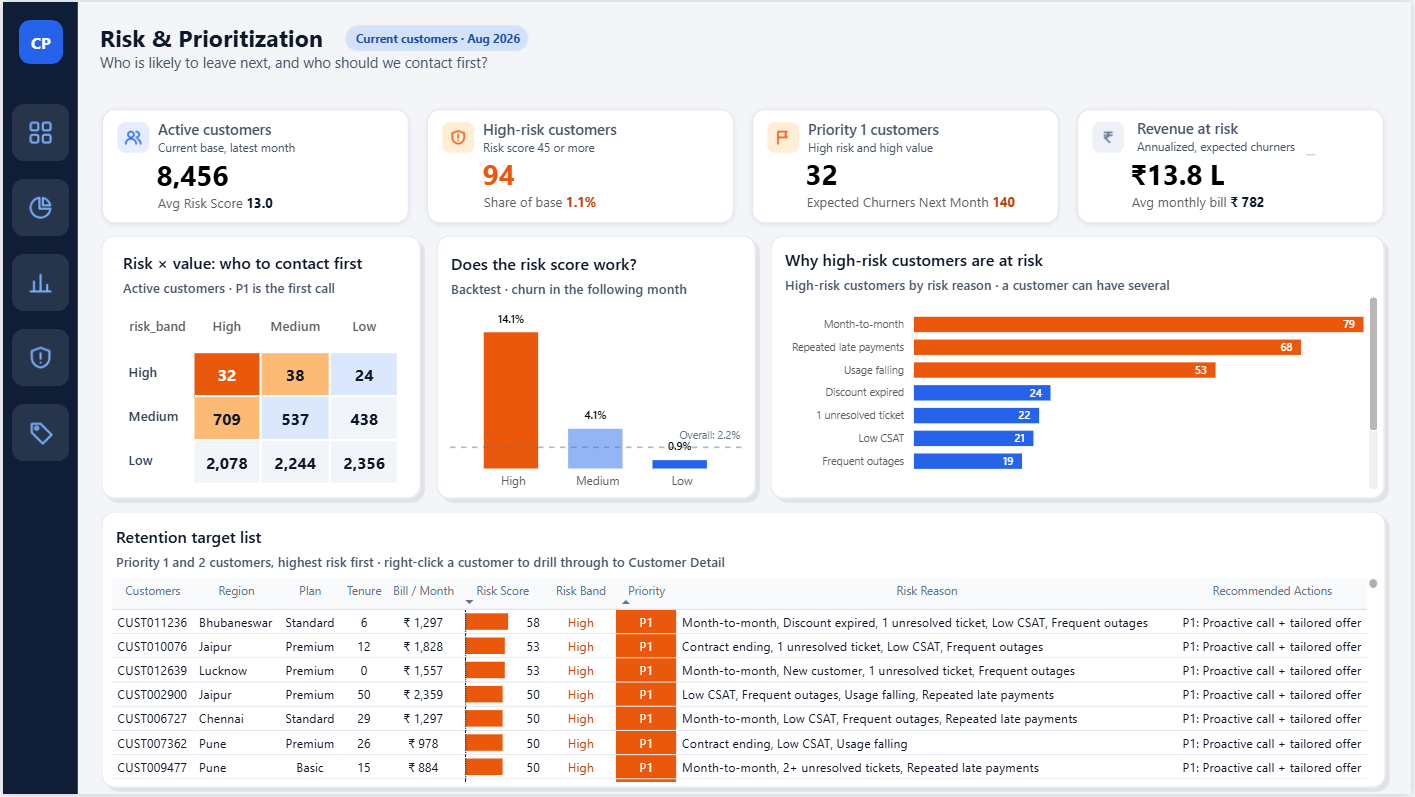

The page's visual inventory and layout, read from the dashboard file:
{"tool":"powerbi","page":{"name":"Risk","canvas":[1280,720],"ordinal":3},"visuals":[{"type":"group","id":"g1","title":"Group 3","box":[0,0,68,720],"z":0},{"type":"shape","box":[0,0,68,720],"z":0,"group":"g1"},{"type":"group","id":"g2","title":"Group 10","box":[388,206,302,251],"z":0,"group":"g15"},{"type":"group","id":"g3","title":"Group 8","box":[388,206,302,251],"z":0,"group":"g17"},{"type":"group","id":"g4","title":"Group 8","box":[692,206,570,251],"z":0,"group":"g19"},{"type":"group","id":"g5","title":"Group 8","box":[83.6,206.4,302,251],"z":0,"group":"g20"},{"type":"group","id":"g6","title":"Group 8","box":[83.6,457.3,1179,262.8],"z":0,"group":"g22"},{"type":"shape","box":[14,16,40,40],"z":1000,"group":"g9"},{"type":"group","id":"g7","title":"Group 11","box":[88,17.9,380.2,50.3],"z":1000},{"type":"textbox","title":"Risk & Prioritization","box":[88,17.9,328.2,30],"z":1000,"group":"g7"},{"type":"clusteredColumnChart","fields":{"Category":["Risk_Band_Performance.risk_band"],"Y":["_Measures.Band Next-Month Churn Rate"]},"box":[405.8,272.7,268.5,175.4],"z":1000,"group":"g15"},{"type":"textbox","title":"Who is likely to leave next, and who should we contact first?","box":[88.2,46.4,380,21.8],"z":2000,"group":"g7"},{"type":"actionButton","box":[8,92,52,52],"z":2000,"group":"g8"},{"type":"actionButton","box":[8,160.2,52,52],"z":3000,"group":"g8"},{"type":"shape","box":[388,206,302,251],"z":3000,"group":"g3"},{"type":"shape","box":[692,206,570,251],"z":3000,"group":"g4"},{"type":"shape","box":[83.6,206.4,302,251],"z":3000,"group":"g5"},{"type":"textbox","title":"Why high-risk customers are at risk","box":[710.8,223.6,457.6,42.9],"z":3000,"group":"g19"},{"type":"textbox","title":"Risk × value: who to contact first","box":[108.6,226.4,222.1,42.1],"z":3000,"group":"g20"},{"type":"textbox","title":"Does the risk score work?","box":[406.8,227.3,242.3,43.1],"z":3000,"group":"g17"},{"type":"shape","box":[83.6,457.3,1179,262.8],"z":3000,"group":"g6"},{"type":"textbox","title":"Retention target list","box":[102.9,475.4,946.7,45.4],"z":3000,"group":"g22"},{"type":"actionButton","box":[8,228.5,52,52],"z":4000,"group":"g8"},{"type":"actionButton","box":[8,296.8,52,52],"z":5000,"group":"g8"},{"type":"textbox","title":"Current customers · Aug 2026","box":[310.7,20.7,167.1,24.3],"z":6000},{"type":"actionButton","box":[8,365,52,52],"z":6000,"group":"g8"},{"type":"group","id":"g8","title":"Group 1","box":[8,92,52,325],"z":6001,"group":"g9"},{"type":"group","id":"g9","title":"Group 2","box":[8,16,52,401],"z":6002,"group":"g1"},{"type":"group","id":"g10","title":"Group 4","box":[90.2,97.1,279,106.6],"z":7000},{"type":"group","id":"g11","title":"Group 4","box":[385.6,97.3,279,108.8],"z":8000},{"type":"group","id":"g12","title":"Group 4","box":[681,97.3,279,108.8],"z":9000},{"type":"group","id":"g13","title":"Group 4","box":[976.4,97.3,279,108.8],"z":10000},{"type":"group","id":"g14","title":"Group 10","box":[83.6,206.4,302,251],"z":11000},{"type":"group","id":"g15","title":"Group 5","box":[388,206,302,251],"z":12000},{"type":"group","id":"g16","title":"Group 10","box":[692,206,570,251],"z":12000,"group":"g18"},{"type":"group","id":"g17","title":"Group 9","box":[388,206,302,251],"z":13000,"group":"g2"},{"type":"group","id":"g18","title":"Group 6","box":[692,206,570,251],"z":13000},{"type":"group","id":"g19","title":"Group 9","box":[692,206,570,251],"z":13000,"group":"g16"},{"type":"group","id":"g20","title":"Group 9","box":[83.6,206.4,302,251],"z":13000,"group":"g14"},{"type":"group","id":"g21","title":"Group 10","box":[83.6,457.3,1179,262.8],"z":13000,"group":"g23"},{"type":"group","id":"g22","title":"Group 9","box":[83.6,457.3,1179,262.8],"z":13000,"group":"g21"},{"type":"clusteredBarChart","fields":{"Category":["customer_risk_reasons.risk_reason"],"Y":["_Measures.Customers with Reason"]},"box":[709.2,260,540.8,183.1],"z":13001,"group":"g18"},{"type":"group","id":"g23","title":"Group 7","box":[83.6,457.3,1179.1,262.7],"z":14000},{"type":"pivotTable","fields":{"Rows":["Customer_Priority.risk_band"],"Columns":["Customer_Priority.value_tier"],"Values":["_Measures.Active Customers (Current)"]},"box":[109.1,277.3,251.8,165.5],"z":15000},{"type":"tableEx","fields":{"Values":["Customer_Priority.customer_id","Customer_Priority.region_name","Customer_Priority.plan_category","Customer_Priority.tenure_months","Customer_Priority.current_monthly_bill","Customer_Priority.risk_score","Customer_Priority.risk_band","Customer_Priority.priority_rank","Customer_Priority.risk_reasons","Customer_Priority.recommended_action"]},"box":[98.4,523.3,1151.8,184.7],"z":15000,"group":"g23"},{"type":"shape","box":[90.2,97.1,279,104.4],"z":16000,"group":"g10"},{"type":"shape","box":[385.6,97.3,279,104.4],"z":16000,"group":"g11"},{"type":"shape","box":[681,97.3,279,104.4],"z":16000,"group":"g12"},{"type":"shape","box":[976.4,97.3,279,104.4],"z":16000,"group":"g13"},{"type":"cardVisual","fields":{"Data":["_Measures.High-Risk Customers"]},"box":[420.1,132.5,168.2,73.6],"z":17000,"group":"g11"},{"type":"cardVisual","fields":{"Data":["_Measures.Priority 1 Customers"]},"box":[713.6,132.5,240.9,73.6],"z":17000,"group":"g12"},{"type":"cardVisual","fields":{"Data":["_Measures.Revenue at Risk Text"]},"box":[1009,132.5,240.9,73.6],"z":17000,"group":"g13"},{"type":"cardVisual","fields":{"Data":["_Measures.Active Customers (Current)"]},"box":[124,135.4,160,68.3],"z":17000,"group":"g10"},{"type":"image","box":[100.7,109.2,35.2,28.3],"z":18000,"group":"g10"},{"type":"image","box":[396.1,109.4,35.2,28.3],"z":18000,"group":"g11"},{"type":"image","box":[691.5,109.4,35.2,28.3],"z":18000,"group":"g12"},{"type":"image","box":[986.9,109.4,35.2,28.3],"z":18000,"group":"g13"},{"type":"textbox","title":"Revenue at risk","box":[1030.6,106.1,161.8,32.7],"z":19000,"group":"g13"},{"type":"textbox","title":"Active customers","box":[140.7,106.8,137.6,32.1],"z":19000,"group":"g10"},{"type":"textbox","title":"High-risk customers","box":[436.1,107,137.6,32.1],"z":19000,"group":"g11"},{"type":"textbox","title":"Priority 1 customers","box":[731.5,107,137.6,32.1],"z":19000,"group":"g12"}]}

Visuals, with their boxes on the page's 1280x720 design canvas (x1, y1, x2, y2). These are canvas units, not pixel positions in the 1415x797 screenshot, which may show the page scaled, cropped or inside an application window:
"Group 3" group: x1=0 y1=0 x2=68 y2=720
shape: x1=0 y1=0 x2=68 y2=720
"Group 10" group: x1=388 y1=206 x2=690 y2=457
"Group 8" group: x1=388 y1=206 x2=690 y2=457
"Group 8" group: x1=692 y1=206 x2=1262 y2=457
"Group 8" group: x1=84 y1=206 x2=386 y2=457
"Group 8" group: x1=84 y1=457 x2=1263 y2=720
shape: x1=14 y1=16 x2=54 y2=56
"Group 11" group: x1=88 y1=18 x2=468 y2=68
"Risk & Prioritization" textbox: x1=88 y1=18 x2=416 y2=48
clusteredColumnChart - Risk_Band_Performance.risk_band x _Measures.Band Next-Month Churn Rate: x1=406 y1=273 x2=674 y2=448
"Who is likely to leave next, and who should we contact first?" textbox: x1=88 y1=46 x2=468 y2=68
actionButton: x1=8 y1=92 x2=60 y2=144
actionButton: x1=8 y1=160 x2=60 y2=212
shape: x1=388 y1=206 x2=690 y2=457
shape: x1=692 y1=206 x2=1262 y2=457
shape: x1=84 y1=206 x2=386 y2=457
"Why high-risk customers are at risk" textbox: x1=711 y1=224 x2=1168 y2=266
"Risk × value: who to contact first" textbox: x1=109 y1=226 x2=331 y2=268
"Does the risk score work?" textbox: x1=407 y1=227 x2=649 y2=270
shape: x1=84 y1=457 x2=1263 y2=720
"Retention target list" textbox: x1=103 y1=475 x2=1050 y2=521
actionButton: x1=8 y1=228 x2=60 y2=280
actionButton: x1=8 y1=297 x2=60 y2=349
"Current customers · Aug 2026" textbox: x1=311 y1=21 x2=478 y2=45
actionButton: x1=8 y1=365 x2=60 y2=417
"Group 1" group: x1=8 y1=92 x2=60 y2=417
"Group 2" group: x1=8 y1=16 x2=60 y2=417
"Group 4" group: x1=90 y1=97 x2=369 y2=204
"Group 4" group: x1=386 y1=97 x2=665 y2=206
"Group 4" group: x1=681 y1=97 x2=960 y2=206
"Group 4" group: x1=976 y1=97 x2=1255 y2=206
"Group 10" group: x1=84 y1=206 x2=386 y2=457
"Group 5" group: x1=388 y1=206 x2=690 y2=457
"Group 10" group: x1=692 y1=206 x2=1262 y2=457
"Group 9" group: x1=388 y1=206 x2=690 y2=457
"Group 6" group: x1=692 y1=206 x2=1262 y2=457
"Group 9" group: x1=692 y1=206 x2=1262 y2=457
"Group 9" group: x1=84 y1=206 x2=386 y2=457
"Group 10" group: x1=84 y1=457 x2=1263 y2=720
"Group 9" group: x1=84 y1=457 x2=1263 y2=720
clusteredBarChart - customer_risk_reasons.risk_reason x _Measures.Customers with Reason: x1=709 y1=260 x2=1250 y2=443
"Group 7" group: x1=84 y1=457 x2=1263 y2=720
pivotTable - Customer_Priority.risk_band x Customer_Priority.value_tier: x1=109 y1=277 x2=361 y2=443
tableEx - Customer_Priority.customer_id x Customer_Priority.region_name: x1=98 y1=523 x2=1250 y2=708
shape: x1=90 y1=97 x2=369 y2=202
shape: x1=386 y1=97 x2=665 y2=202
shape: x1=681 y1=97 x2=960 y2=202
shape: x1=976 y1=97 x2=1255 y2=202
cardVisual - _Measures.High-Risk Customers: x1=420 y1=132 x2=588 y2=206
cardVisual - _Measures.Priority 1 Customers: x1=714 y1=132 x2=954 y2=206
cardVisual - _Measures.Revenue at Risk Text: x1=1009 y1=132 x2=1250 y2=206
cardVisual - _Measures.Active Customers (Current): x1=124 y1=135 x2=284 y2=204
image: x1=101 y1=109 x2=136 y2=138
image: x1=396 y1=109 x2=431 y2=138
image: x1=692 y1=109 x2=727 y2=138
image: x1=987 y1=109 x2=1022 y2=138
"Revenue at risk" textbox: x1=1031 y1=106 x2=1192 y2=139
"Active customers" textbox: x1=141 y1=107 x2=278 y2=139
"High-risk customers" textbox: x1=436 y1=107 x2=574 y2=139
"Priority 1 customers" textbox: x1=732 y1=107 x2=869 y2=139
